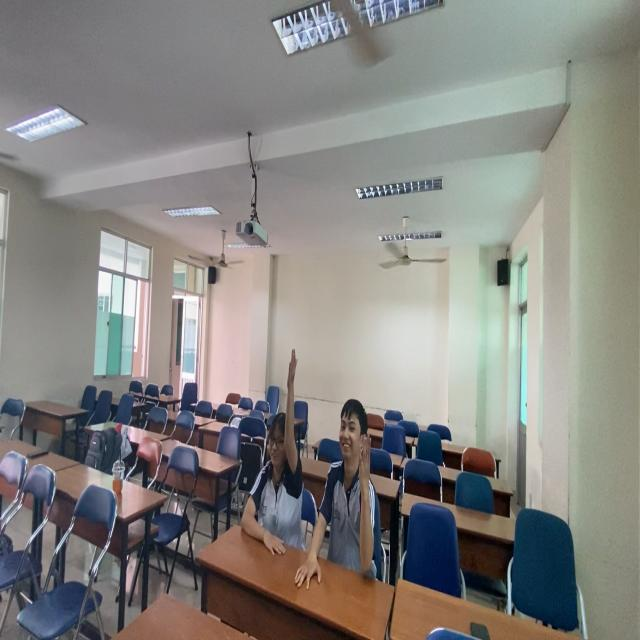raise_hand: (312, 392, 385, 584), (240, 346, 304, 562)
